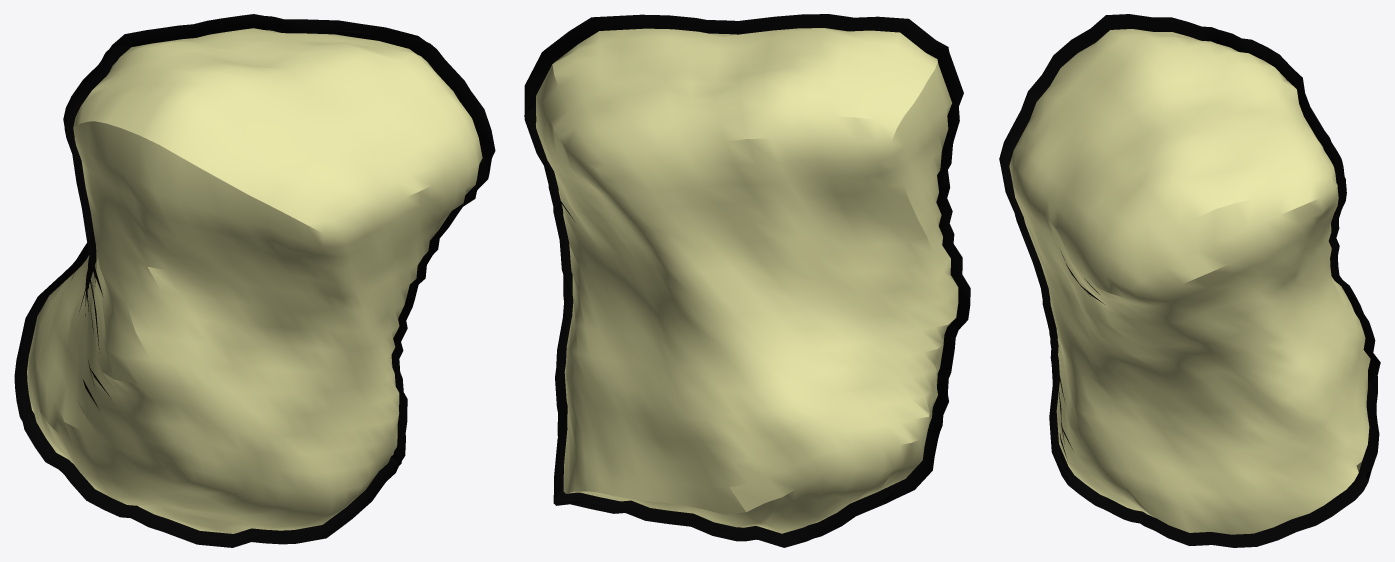
File: Rock_2.fbx
The picture shows the model from 3 angles, left to right: view 1: azimuth 30°, elevation 25°; view 2: azimuth 150°, elevation 25°; view 3: azimuth 270°, elevation 25°; orthographic projection. The views are drawn at different scales.
Parts seen in each view (by area): view 1: rock.012; view 2: rock.012; view 3: rock.012.
Part boxes in pixels (bbox=[...]): rock.012: bbox=[14, 14, 495, 547]; rock.012: bbox=[524, 14, 970, 547]; rock.012: bbox=[999, 14, 1380, 547].
Bounding box in the file's own units: 1260 × 1477 × 1138.
